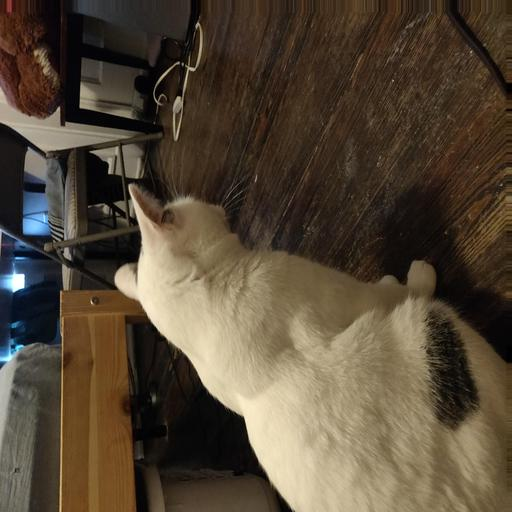cat: (111, 164, 430, 483)
